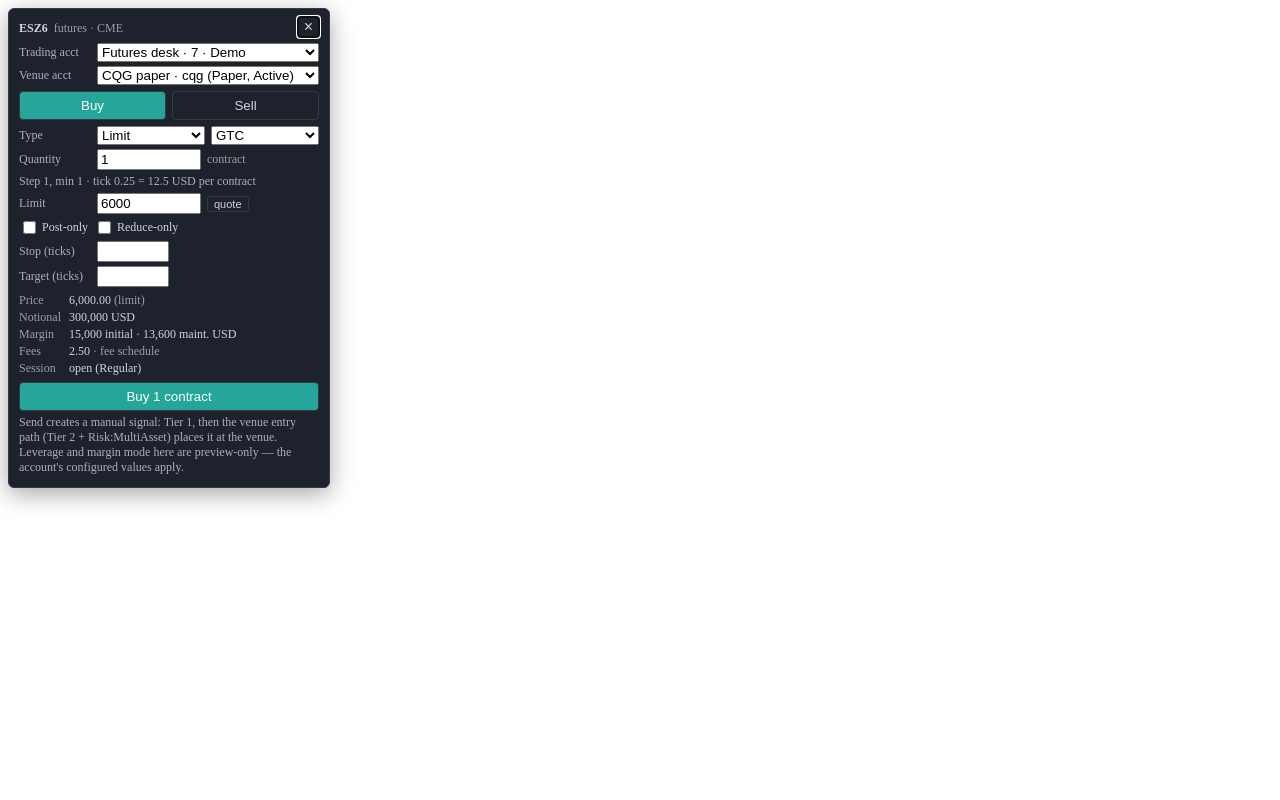
Test: VenueOrderTicketComponent — Send › changing the ticket closes the confirm step
Click the button with test id "venue-ticket-submit" at [169, 396], box [19, 382, 319, 411]
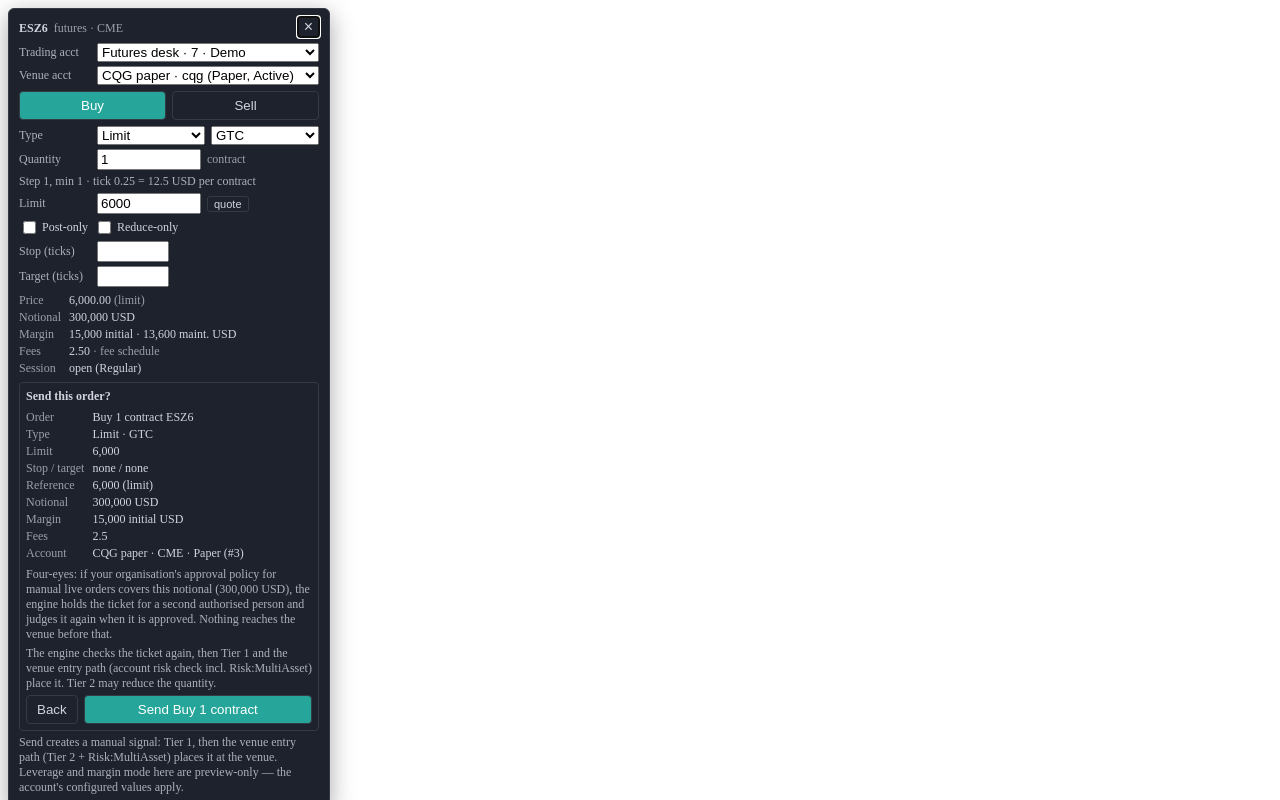
Result: the element with test id "venue-ticket-confirm-step" is shown at [19, 382, 319, 731]
